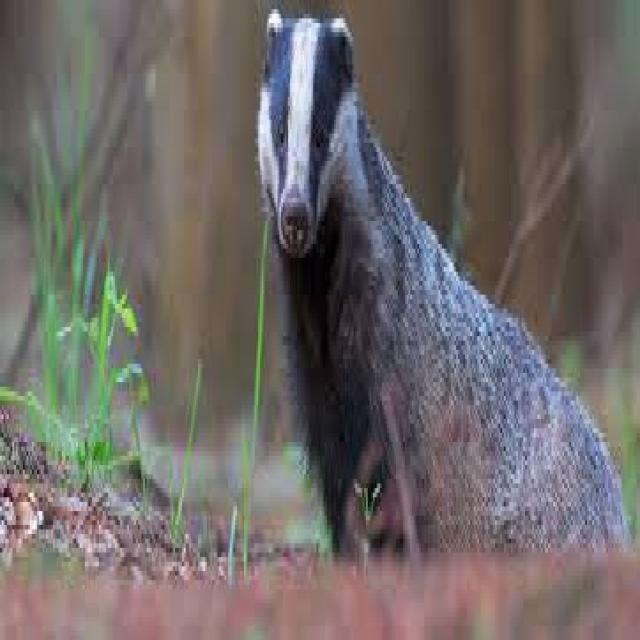Badger: (253, 3, 632, 575)
